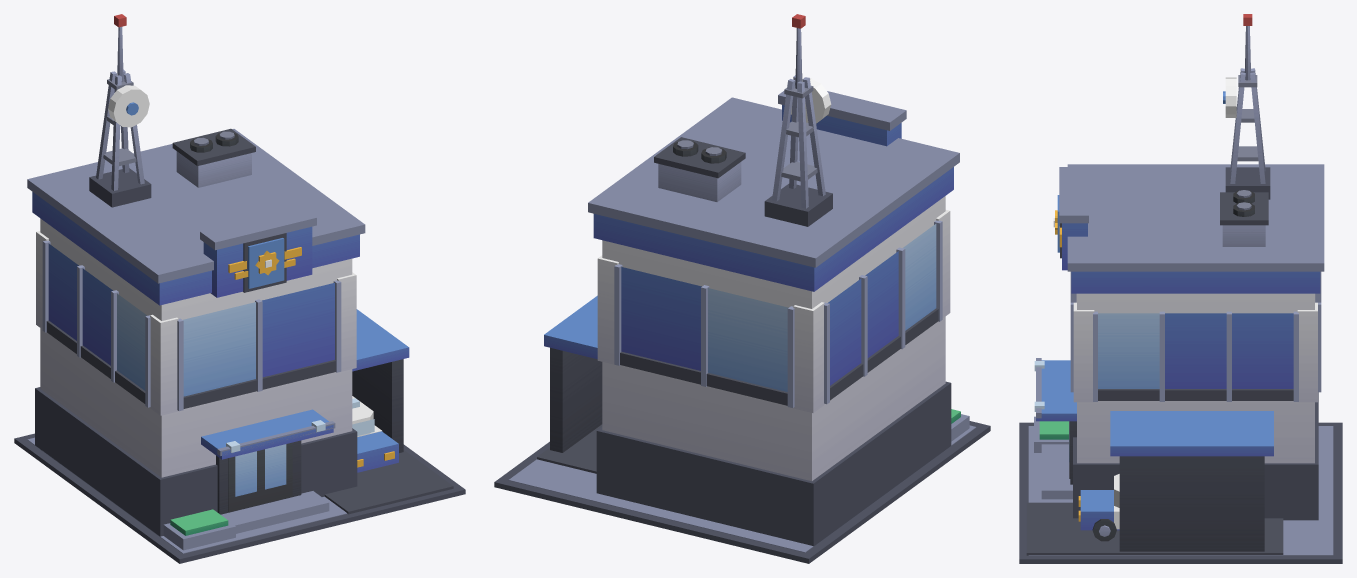
File: police_station_1x1.glb
3 views of the same model, side by side, from view 1: azimuth 30°, elevation 25°; view 2: azimuth 150°, elevation 25°; view 3: azimuth 270°, elevation 25° (orthographic). The views are drawn at different scales.
Parts seen in each view (by area): view 1: police_station_1x1; view 2: police_station_1x1; view 3: police_station_1x1.
Part boxes in pixels (bbox=[...]): police_station_1x1: bbox=[14, 14, 465, 563]; police_station_1x1: bbox=[494, 14, 990, 563]; police_station_1x1: bbox=[1019, 14, 1342, 563].
Size of the model in its own units: 1.74 by 2.6 by 1.74.
Materials: 1 (1 with a texture image).
